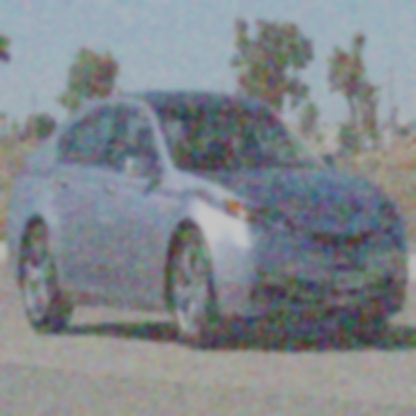Vehicle: (7, 91, 409, 348)
